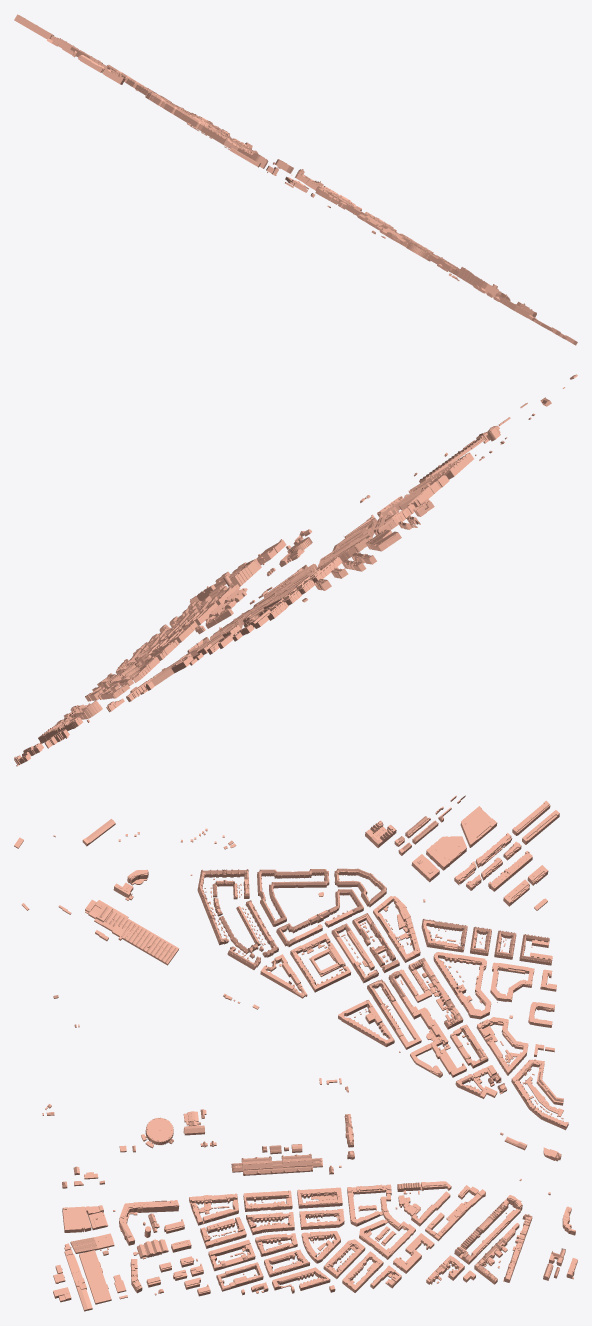
The picture shows the model from 3 angles, top to bottom: view 1: azimuth 30°, elevation 25°; view 2: azimuth 150°, elevation 25°; view 3: azimuth 270°, elevation 25°; orthographic projection. The views are drawn at different scales.
Size of the model in its own units: 3.63e+07 by 2.6e+07 by 4.23e+07.
